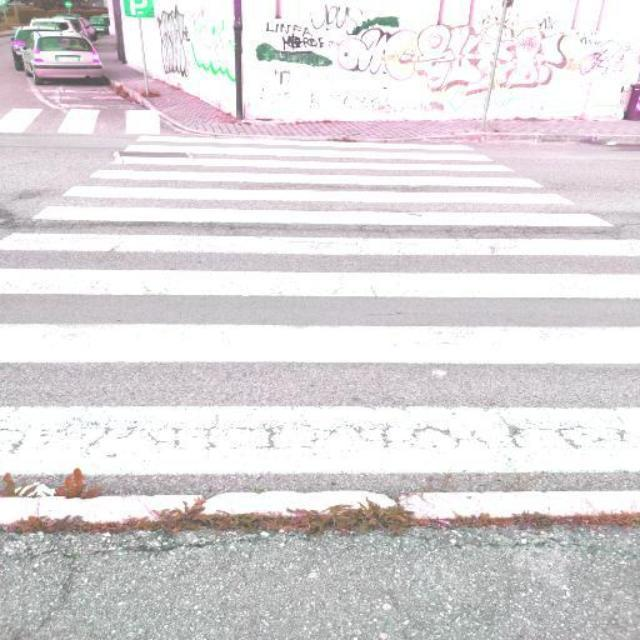sidewalk: (0, 104, 638, 531)
